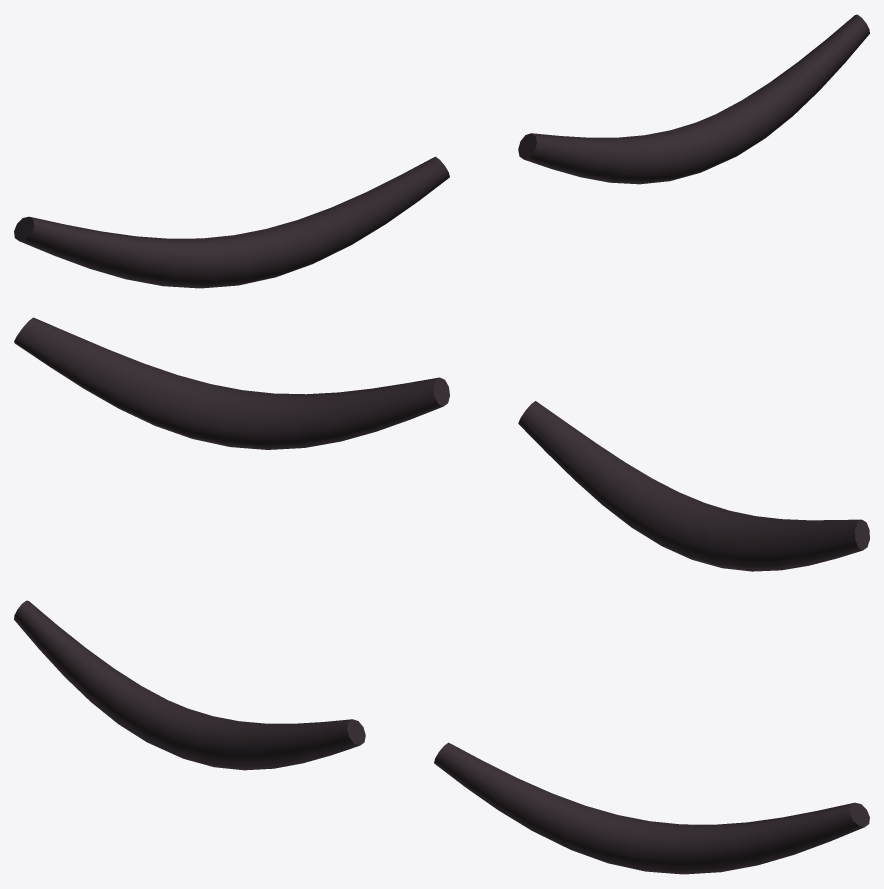
File: facial_thin_moustache_default.gltf
3 renders of one model, top to bottom at view 1: azimuth 30°, elevation 25°; view 2: azimuth 150°, elevation 25°; view 3: azimuth 330°, elevation 25°, orthographic.
Visible parts, largest first — view 1: Thin Moustache; view 2: Thin Moustache; view 3: Thin Moustache.
Part boxes in pixels (left/top/right/bottom): Thin Moustache: left=14, top=14, right=869, bottom=288; Thin Moustache: left=14, top=317, right=869, bottom=571; Thin Moustache: left=14, top=600, right=869, bottom=874.
Bounding box in the file's own units: 0.1781 × 0.019 × 0.0202.
Materials: 1 (1 with a texture image).
